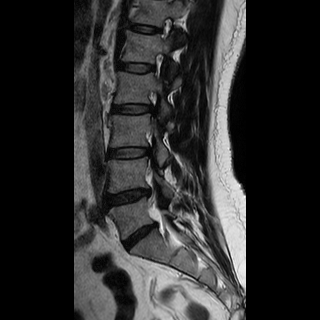RFS0: (146, 46, 170, 83)
